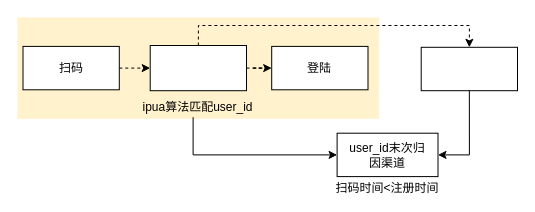
Image size: 535x212. Some labels were removed from this diagram. Here are the shapes that lost their labels. From the top down, the centre of each, then its label:
point (197, 67): 下载
point (469, 68): 注册
